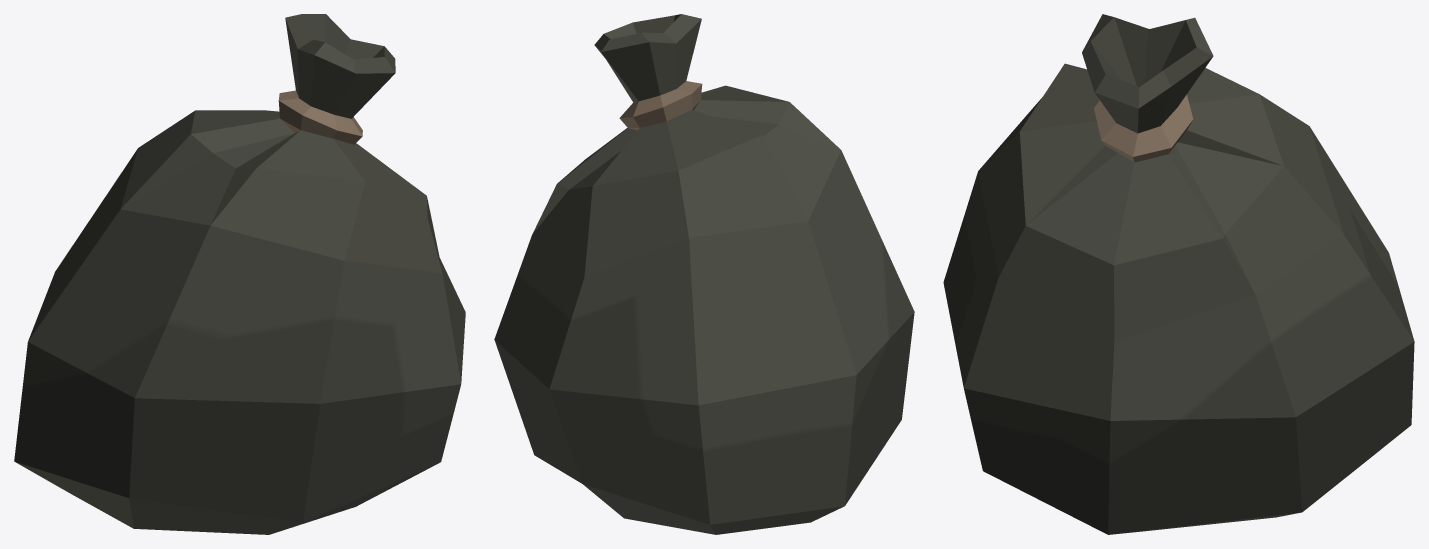
File: SM_Prop_Rubbish_Bag_02.fbx
3 views of the same model, side by side, from view 1: azimuth 30°, elevation 25°; view 2: azimuth 150°, elevation 25°; view 3: azimuth 270°, elevation 25° (orthographic). The views are drawn at different scales.
Parts seen in each view (by area): view 1: SM_Prop_Rubbish_Bag_02; view 2: SM_Prop_Rubbish_Bag_02; view 3: SM_Prop_Rubbish_Bag_02.
Part boxes in pixels (<box>): SM_Prop_Rubbish_Bag_02: <box>14,14,465,534</box>; SM_Prop_Rubbish_Bag_02: <box>494,14,914,534</box>; SM_Prop_Rubbish_Bag_02: <box>943,14,1414,534</box>.
Bounding box in the file's own units: 56.53 × 63.84 × 55.57.
